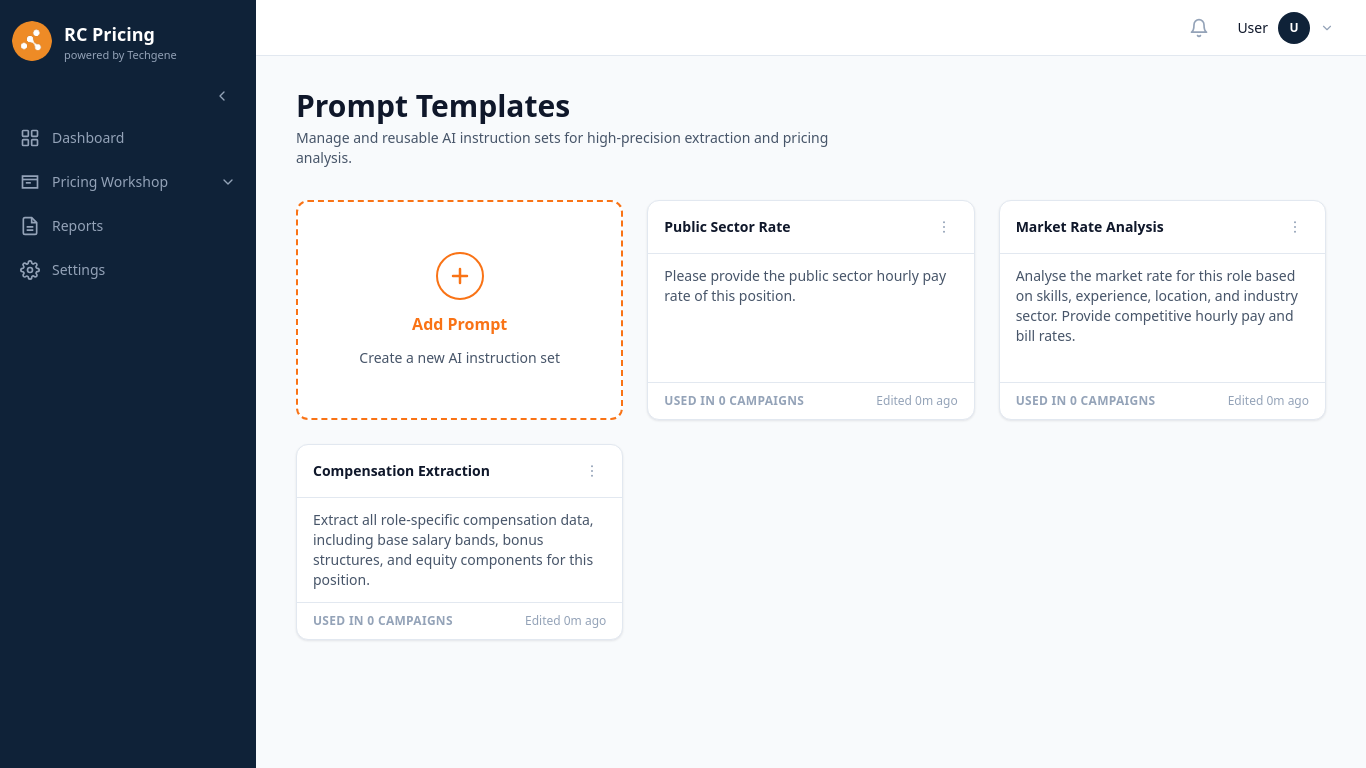
Test: PromptTemplateView — Edit › saves the edited name and content and reflects them in the card
The image size is (1366, 768).
Expected: the text "Public Sector Rate" is shown, [664,217,790,236]
Click the button named "More options" next to "Public Sector Rate" at (944, 227), box [930,213,958,241]
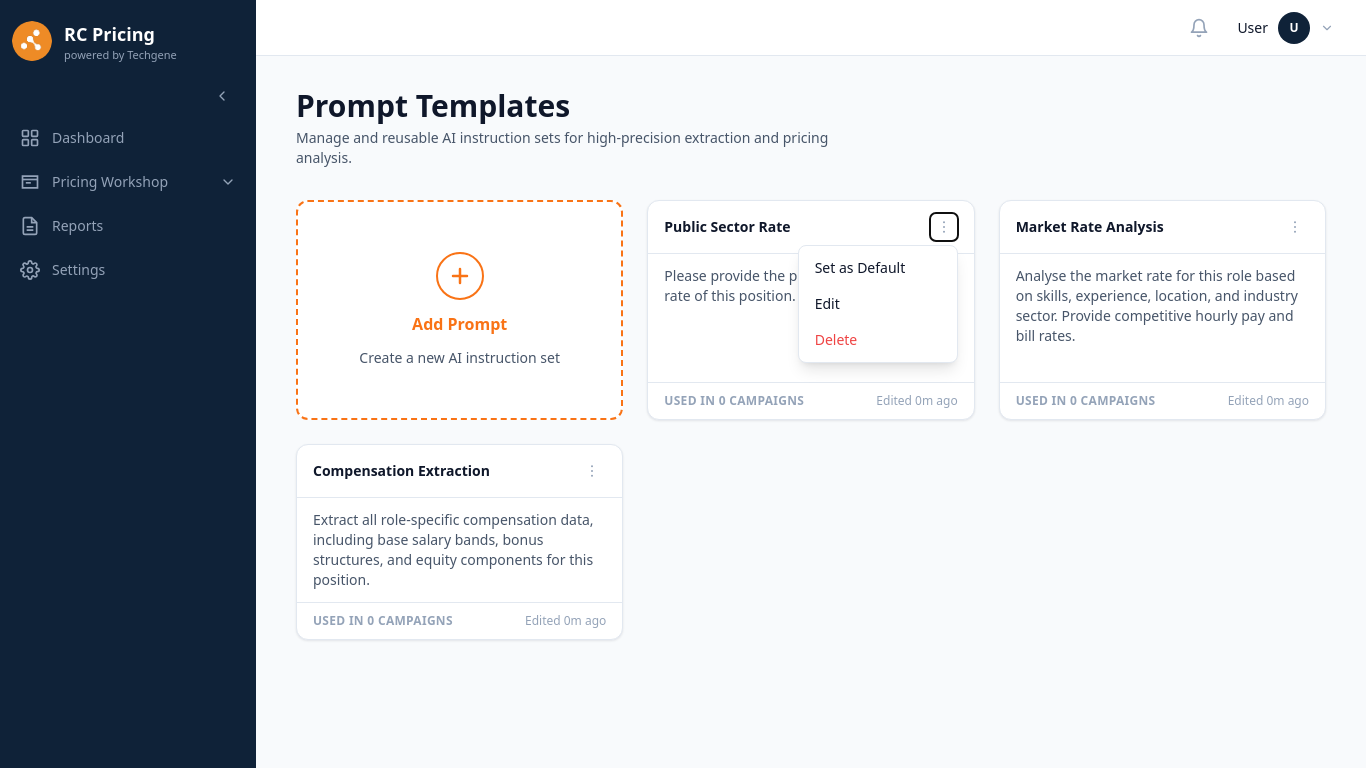
Click the button "Edit" at (878, 304), box [799,286,957,322]
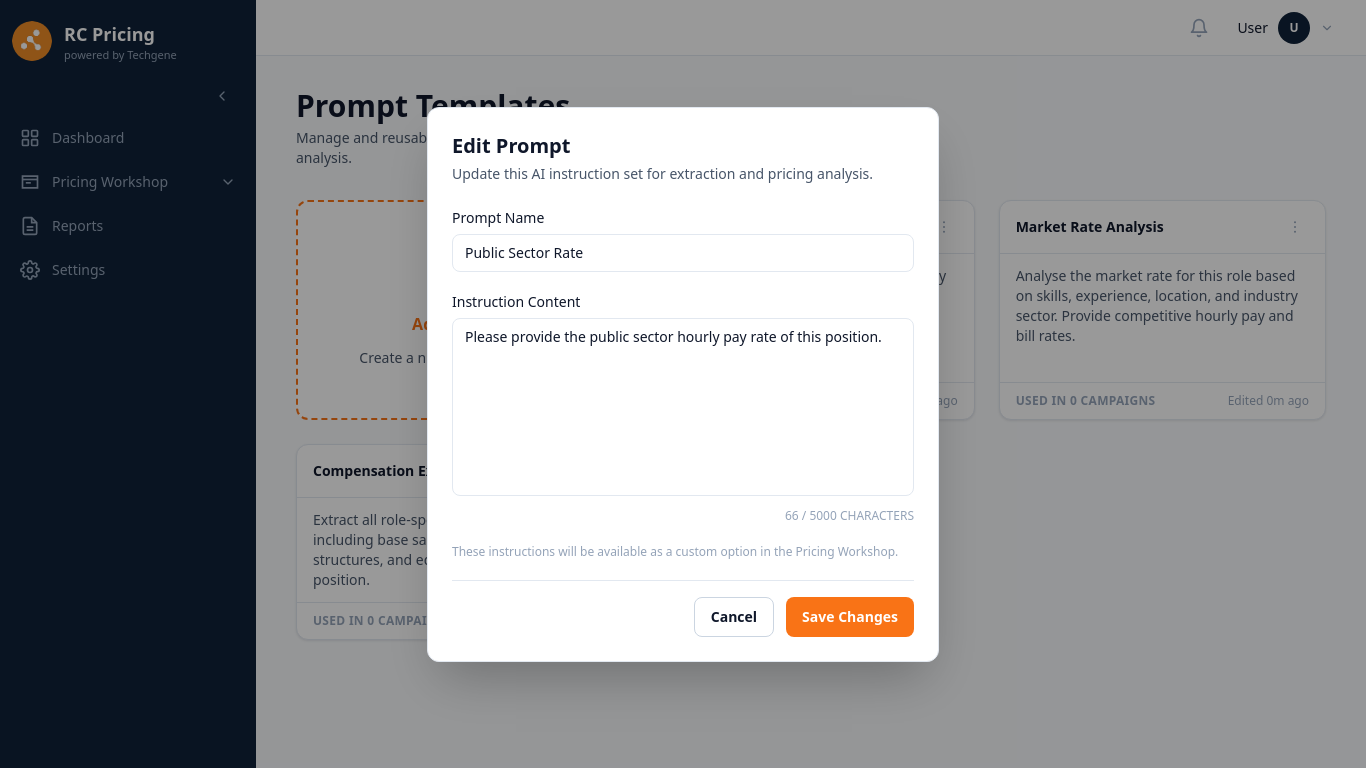
Replace the text in the field showing "Public Sector Rate" with "Updated Rate Prompt" at (683, 252), box [452,234,914,272]
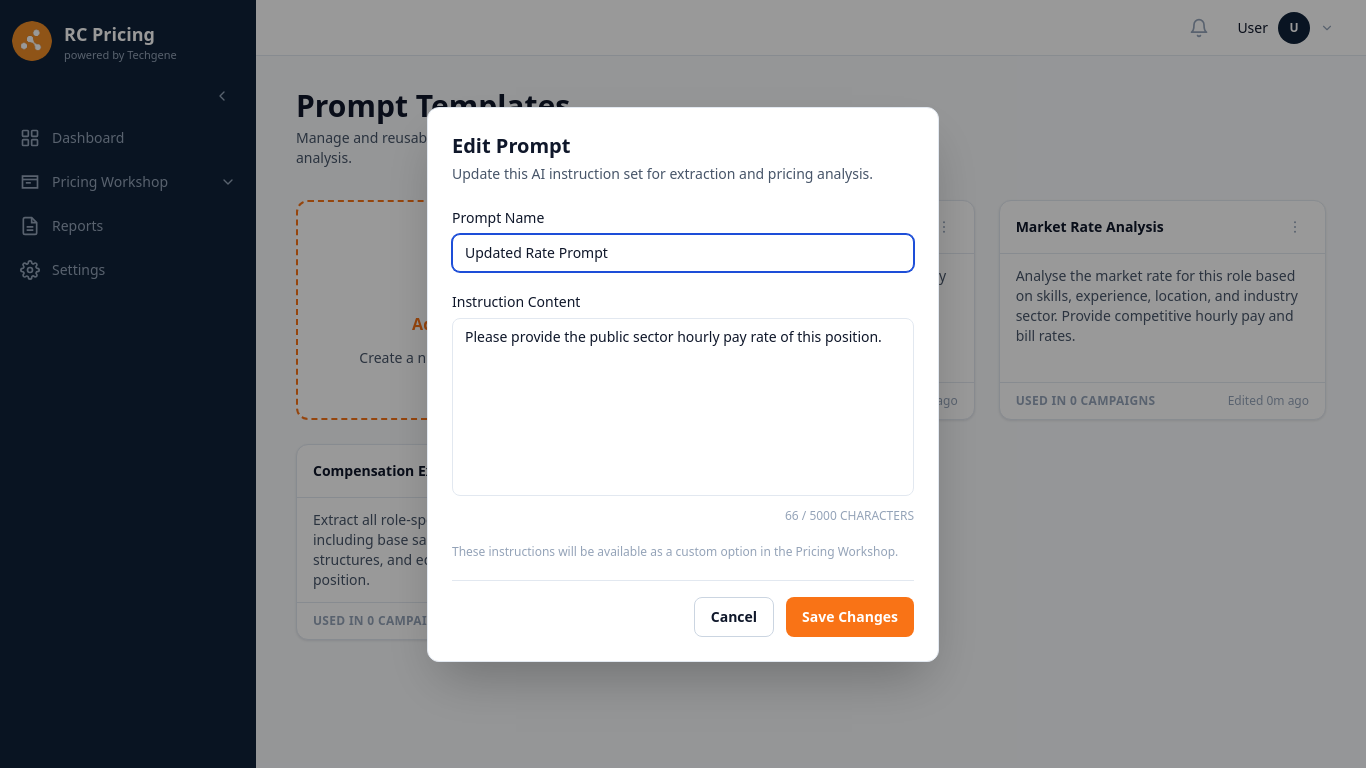
Click the button "Save Changes" at (850, 616), box [786,596,914,636]
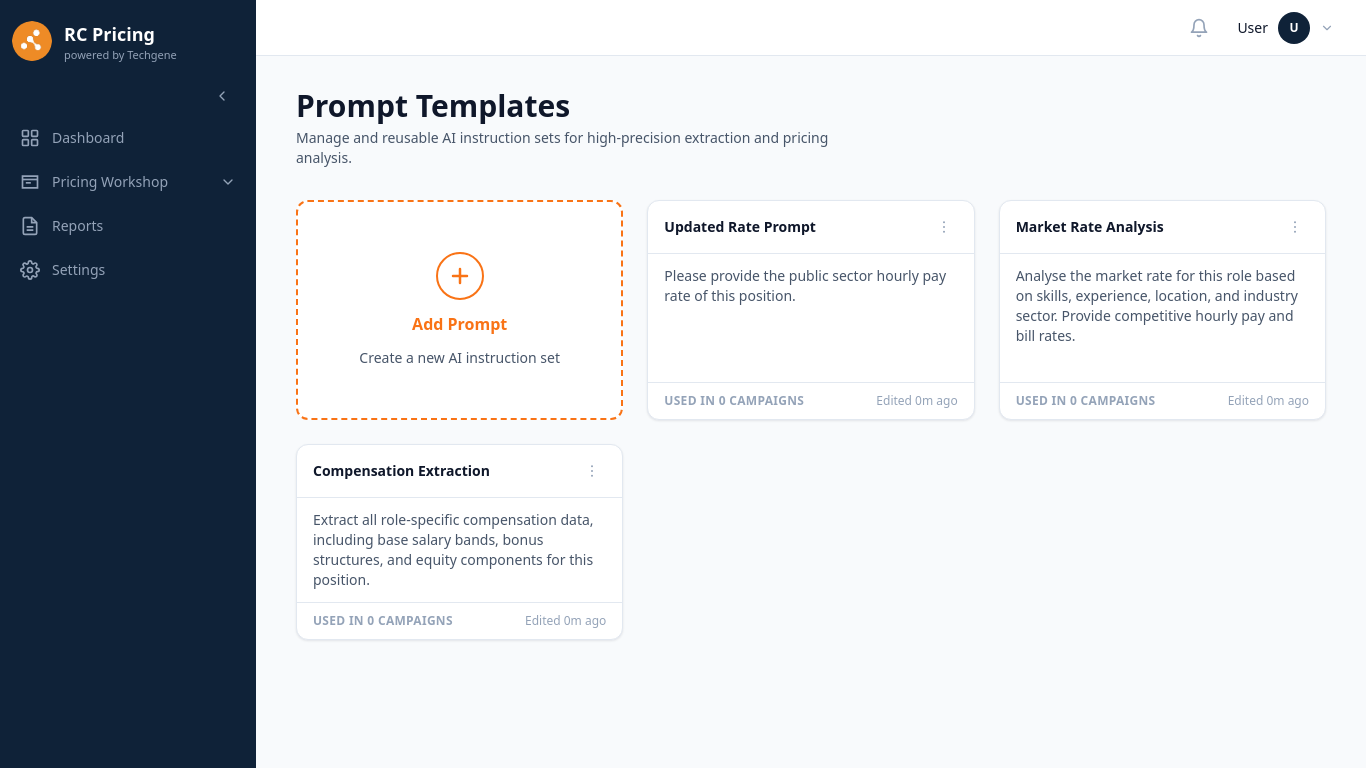
Now the text "Updated Rate Prompt" is shown, box [664,217,816,236]
Now the text "Public Sector Rate" is gone
